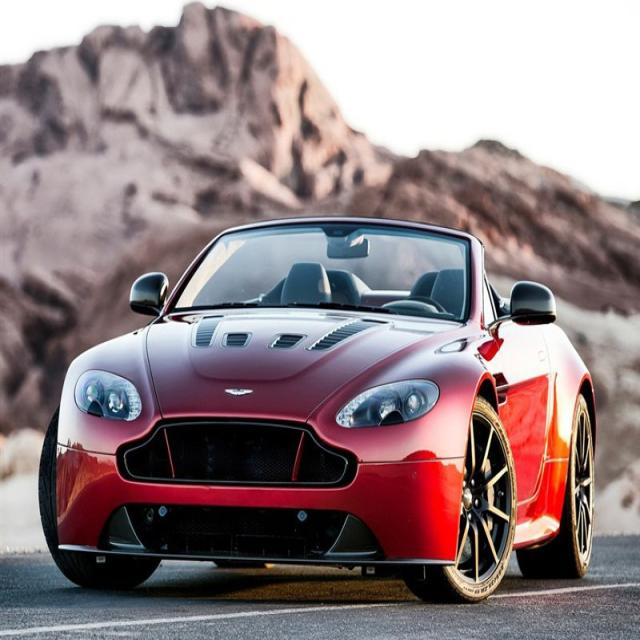front_bumper: (52, 436, 468, 568)
front_glass: (164, 224, 470, 328)
front_left_side_door: (484, 295, 554, 510)
front_left_side_light: (334, 376, 442, 430)
front_left_side_mirror: (492, 278, 558, 332)
front_right_side_light: (73, 367, 144, 425)
front_right_side_mirror: (128, 270, 170, 320)
wheel: (404, 398, 515, 600), (517, 394, 591, 587)
